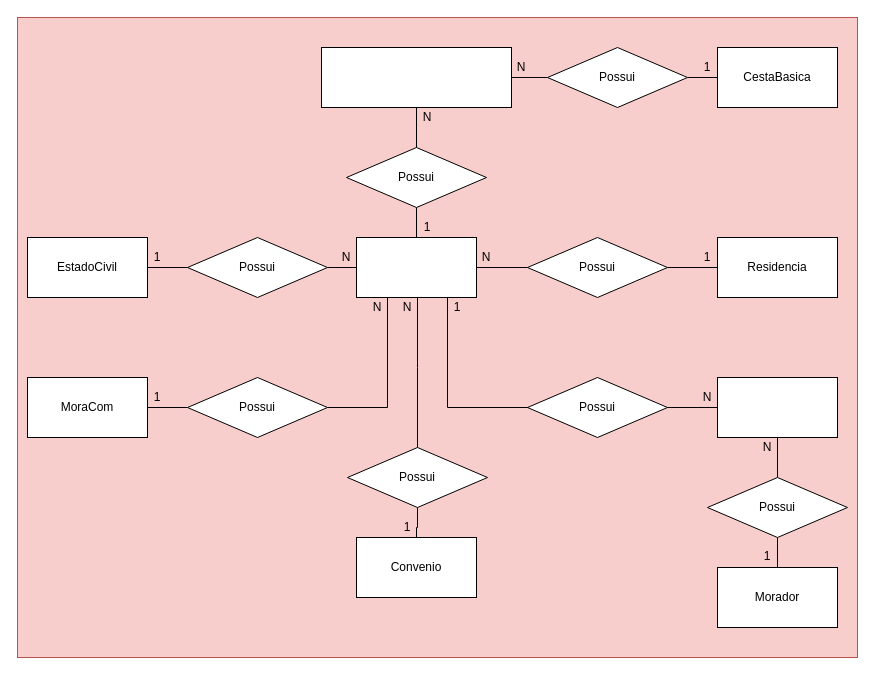
This 875x675 diagram has some shape labels left out. The centre of each missing label's shape, as x and y in pixels:
"CestaBasica_Contemplado" goes at pixel 416 77.
"ComposicaoFamiliar" goes at pixel 777 407.
"Contemplado" goes at pixel 416 267.
